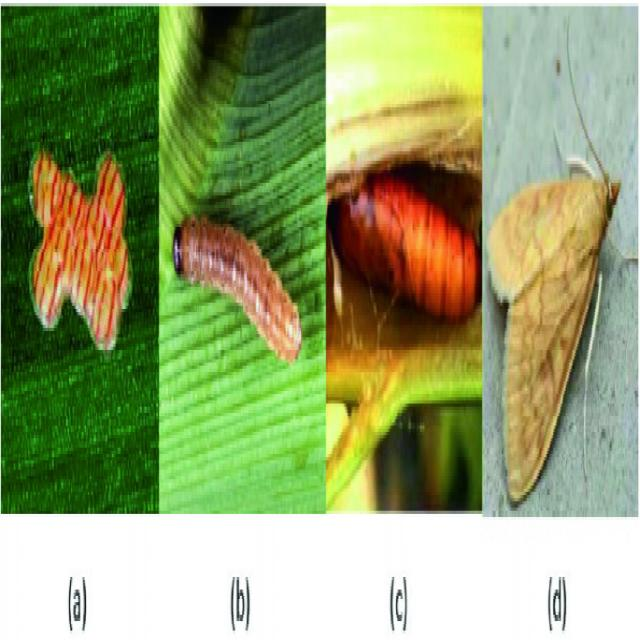cornborer-Adult-: (488, 147, 631, 497)
cornborer-Larva-: (167, 190, 308, 398)
